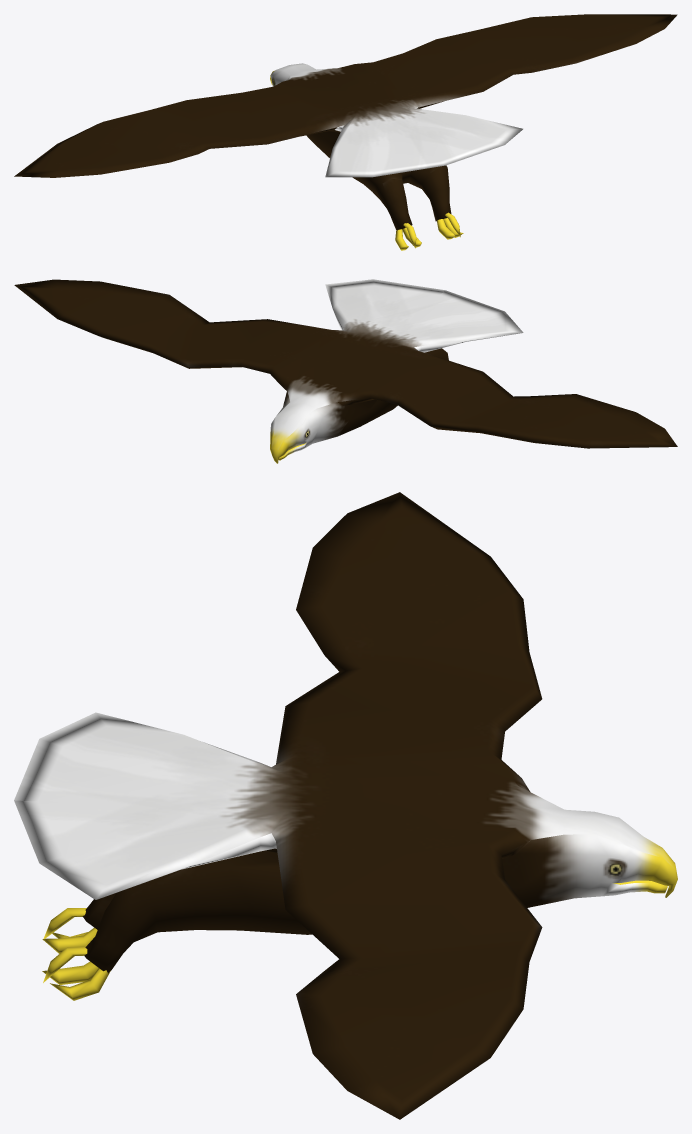
File: SKM_Eagle_1.fbx
3 renders of one model, top to bottom at view 1: azimuth 30°, elevation 25°; view 2: azimuth 150°, elevation 25°; view 3: azimuth 270°, elevation 25°, orthographic. The views are drawn at different scales.
Parts seen in each view (by area): view 1: polySurface1; view 2: polySurface1; view 3: polySurface1.
Part boxes in pixels (x1,y1,x2,y2): polySurface1: (14,14,677,250); polySurface1: (14,279,677,463); polySurface1: (14,492,677,1119).
Size of the model in its own units: 129 by 17.41 by 57.53.
